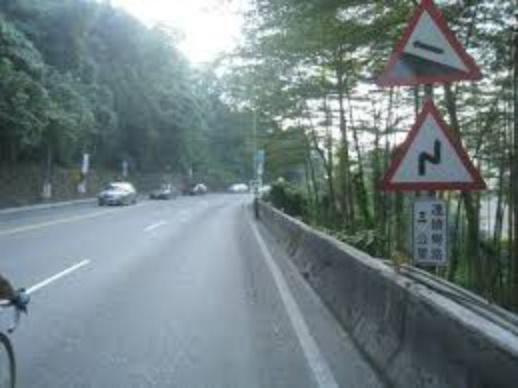car: (97, 177, 139, 208), (148, 179, 179, 203)
